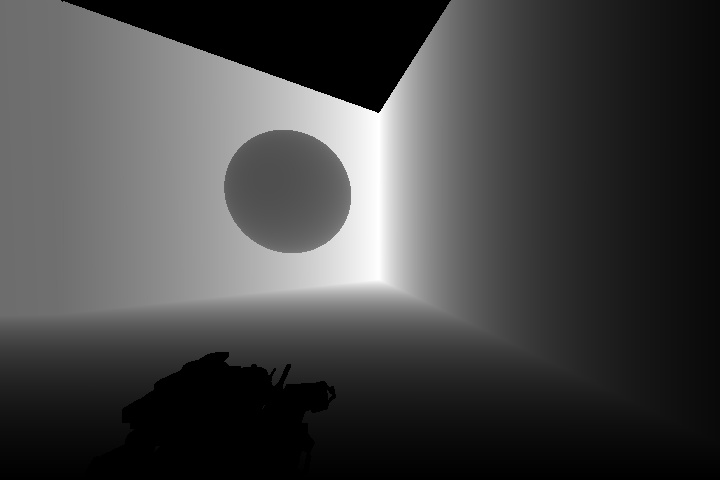mushroom: (223, 129, 353, 256)
